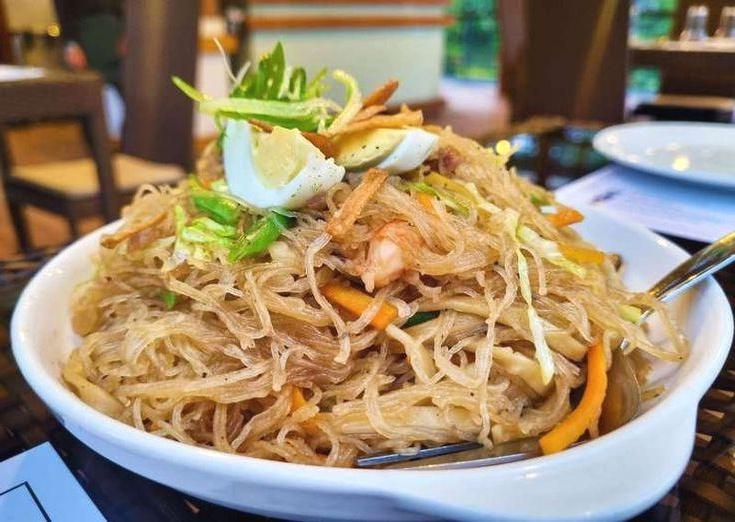pancit bihon: (76, 140, 636, 467)
